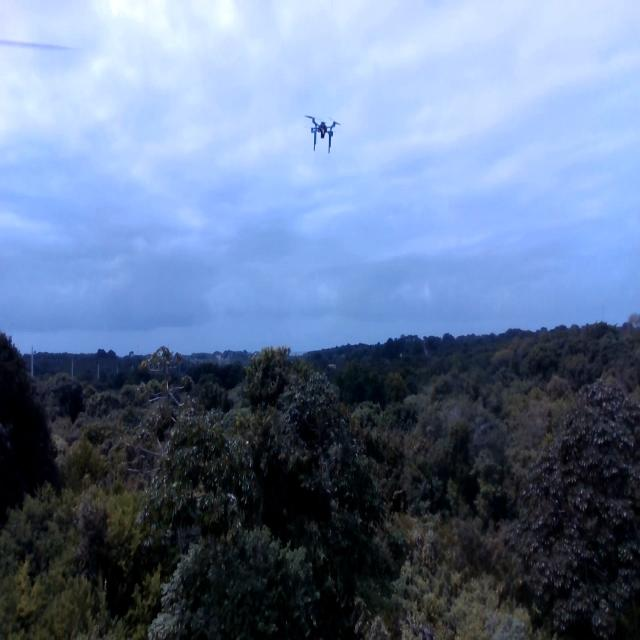-uav-: (301, 110, 345, 162)
